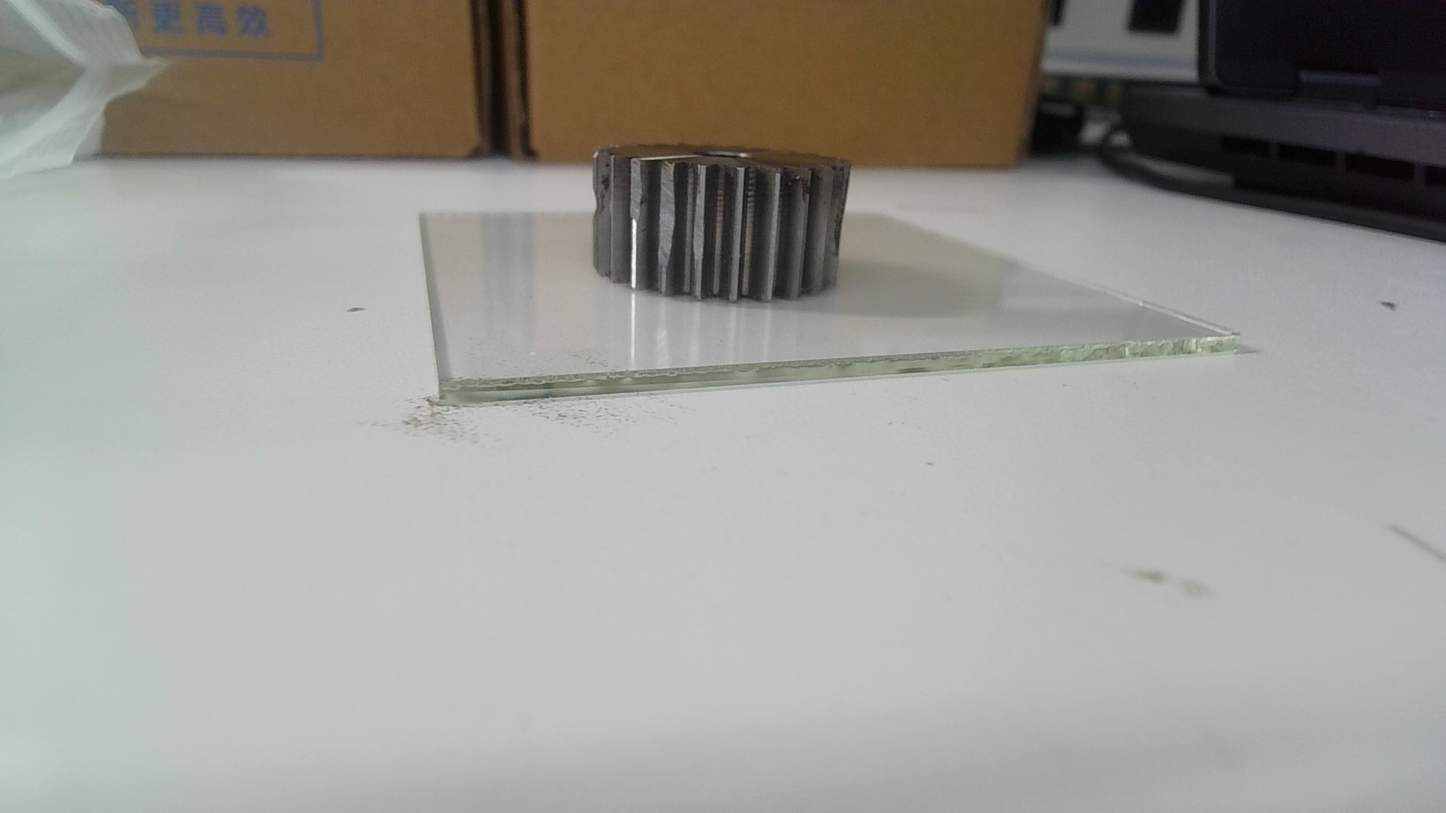gear: (589, 139, 853, 306)
